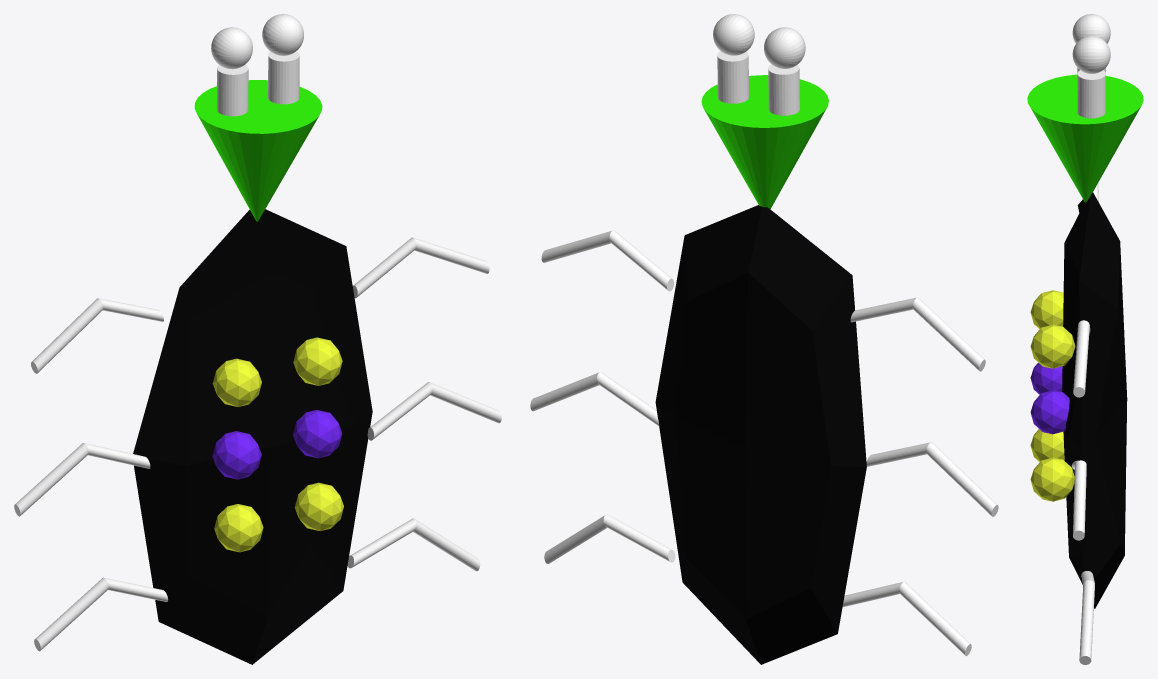
Rendered from medin1110.dae.
3 views of the same model, side by side, from view 1: azimuth 30°, elevation 25°; view 2: azimuth 150°, elevation 25°; view 3: azimuth 270°, elevation 25° (orthographic). The views are drawn at different scales.
Parts seen in each view (by area): view 1: Cone_011; view 2: Cone_011; view 3: Cone_011.
Boxes of the visible parts, x1=… form: Cone_011: x1=14, y1=14, x2=501, y2=664; Cone_011: x1=530, y1=14, x2=998, y2=664; Cone_011: x1=1027, y1=14, x2=1143, y2=664.
Size of the model in its own units: 7.95 by 1.86 by 10.31.
